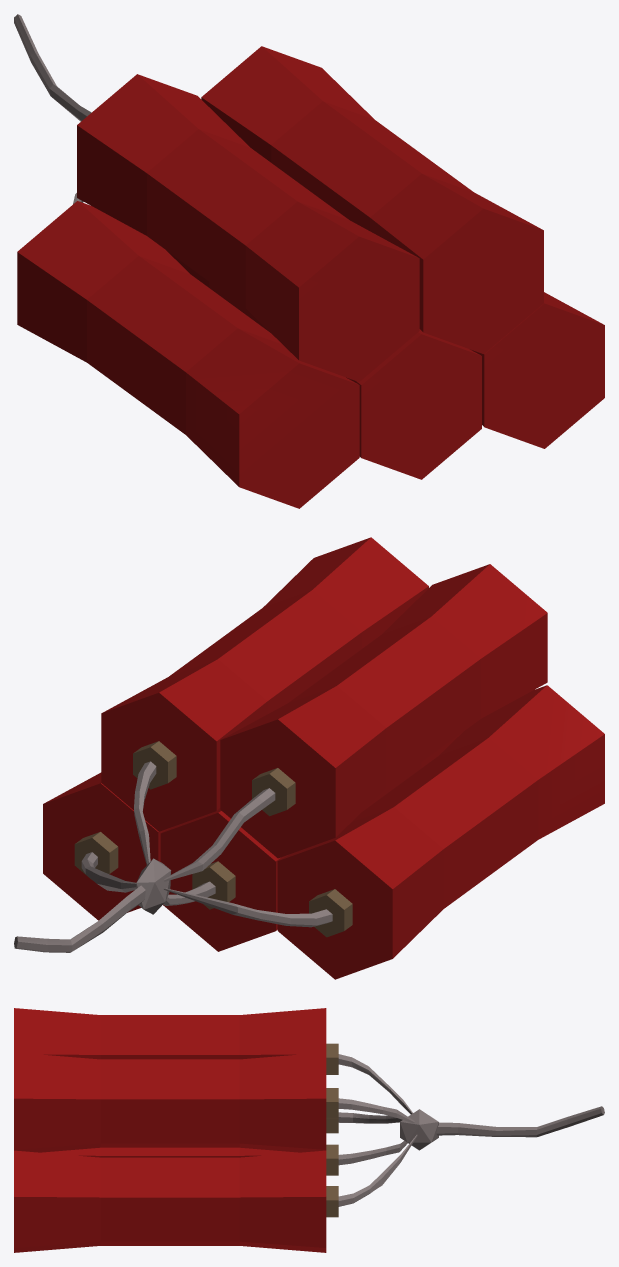
Rendered from Dinamite.fbx.
3 views of the same model, one above another, from view 1: azimuth 30°, elevation 25°; view 2: azimuth 150°, elevation 25°; view 3: azimuth 270°, elevation 25° (orthographic). The views are drawn at different scales.
Parts seen in each view (by area): view 1: Dinamite; view 2: Dinamite; view 3: Dinamite.
Boxes of the visible parts, x1,y1,x2,y2 form: Dinamite: (14,14,604,508); Dinamite: (14,537,604,979); Dinamite: (14,1008,604,1252).
Size of the model in its own units: 37.62 by 25.41 by 74.87.
